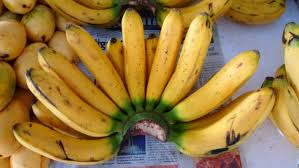banana: (179, 81, 275, 161), (166, 51, 264, 124), (22, 63, 113, 131), (164, 8, 223, 105), (5, 118, 123, 165), (108, 1, 161, 104), (62, 21, 126, 106)
